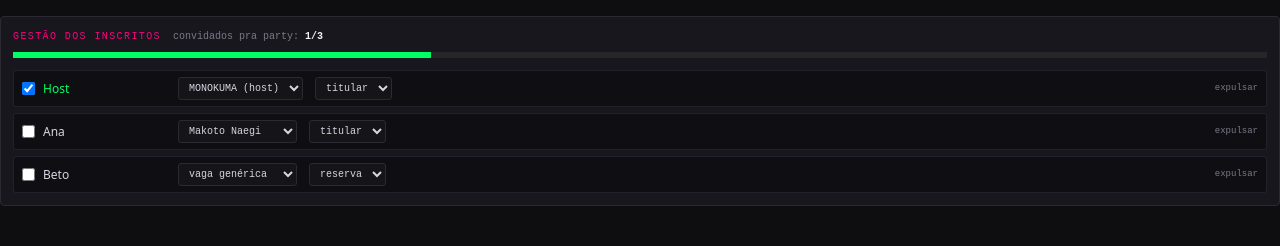
GestaoParticipantes › se o servidor recusar, a marcação volta atrás e o erro aparece
The width and height of the screenshot is (1280, 246).
Click the checkbox named "Já convidei Ana pra party". click: click(28, 132)
box: [22,125,35,138]
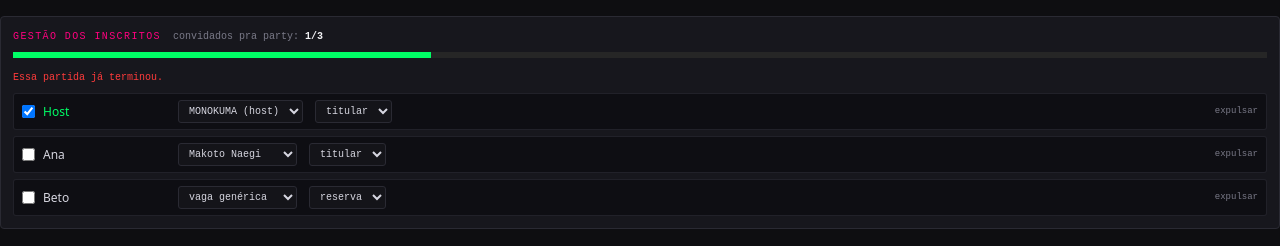
Expected: the text "1/3" is shown, [305,31,323,42]
Expected: the message shows "já terminou", [13,72,163,83]
